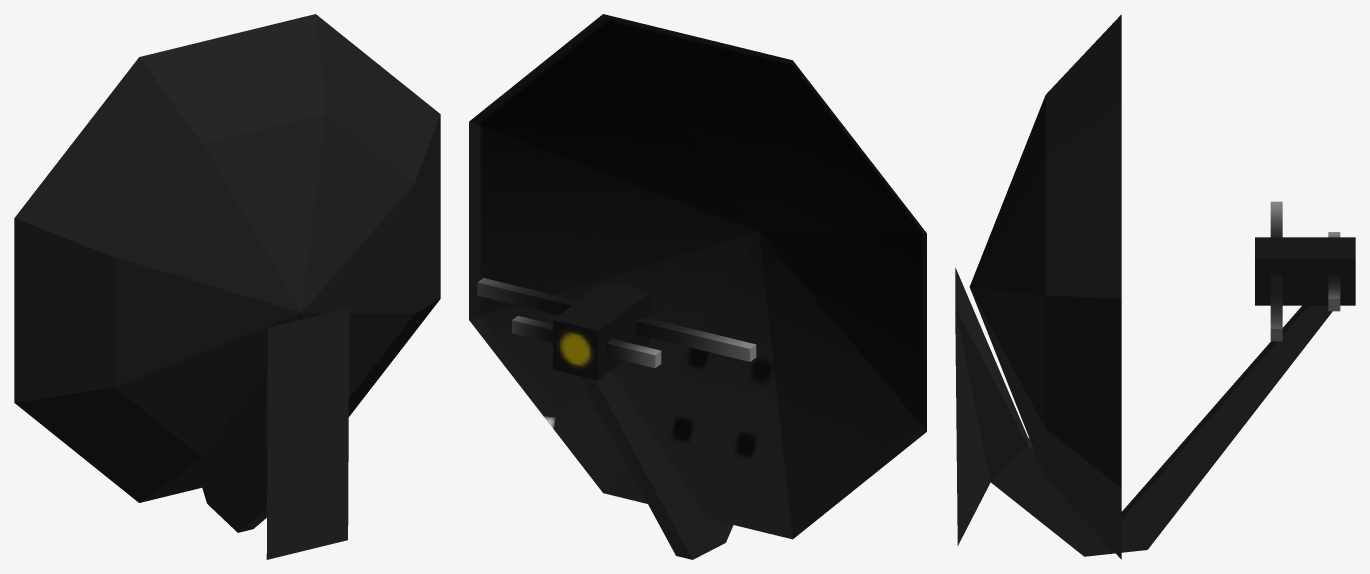
File: Appliance_5.fbx
The picture shows the model from 3 angles, left to right: view 1: azimuth 30°, elevation 25°; view 2: azimuth 150°, elevation 25°; view 3: azimuth 270°, elevation 25°; orthographic projection. The views are drawn at different scales.
Visible parts, largest first — view 1: Appliance.053; view 2: Appliance.053; view 3: Appliance.053.
Part boxes in pixels (bbox=[...]): Appliance.053: bbox=[14, 14, 440, 559]; Appliance.053: bbox=[469, 14, 926, 559]; Appliance.053: bbox=[955, 14, 1355, 559].
Size of the model in its own units: 118 by 127 by 93.37.
